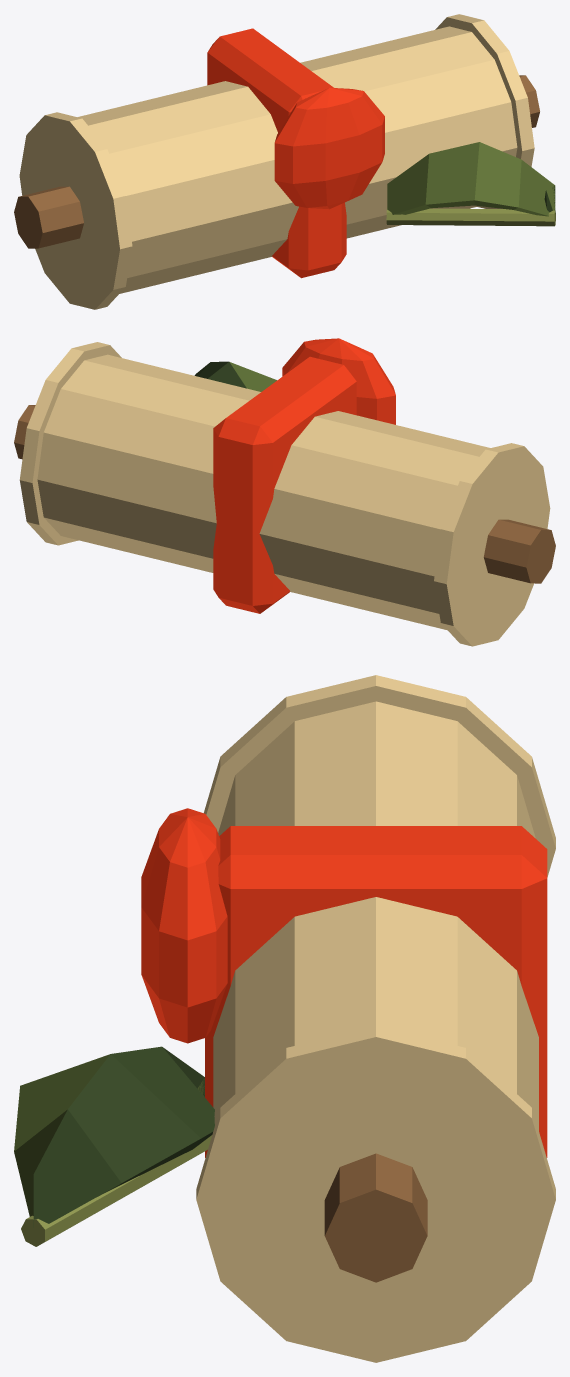
3 views of the same model, one above another, from view 1: azimuth 30°, elevation 25°; view 2: azimuth 150°, elevation 25°; view 3: azimuth 270°, elevation 25° (orthographic). The views are drawn at different scales.
Visible parts, largest first — view 1: healing-scroll; view 2: healing-scroll; view 3: healing-scroll.
Part boxes in pixels (x1=…): healing-scroll: x1=14, y1=14, x2=555, y2=309; healing-scroll: x1=14, y1=338, x2=555, y2=646; healing-scroll: x1=14, y1=675, x2=555, y2=1362.
Size of the model in its own units: 1.2 by 0.47 by 0.6329.
